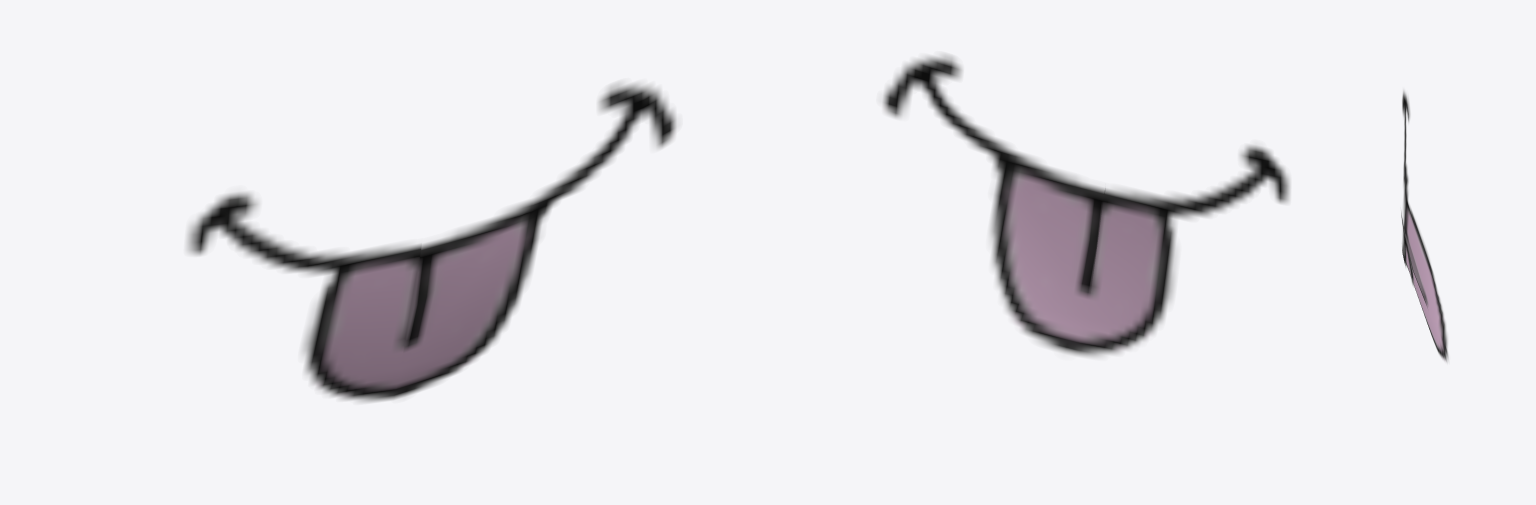
File: Smile 1.glb
3 views of the same model, side by side, from view 1: azimuth 30°, elevation 25°; view 2: azimuth 150°, elevation 25°; view 3: azimuth 270°, elevation 25° (orthographic). The views are drawn at different scales.
Parts seen in each view (by area): view 1: smile_1; view 2: smile_1; view 3: smile_1.
Part boxes in pixels (bbox=[...]): smile_1: bbox=[186, 82, 677, 402]; smile_1: bbox=[882, 54, 1290, 358]; smile_1: bbox=[1401, 89, 1448, 363].
Size of the model in its own units: 0.00271 by 0.00158 by 0.000661.
Materials: 1 (1 with a texture image).
